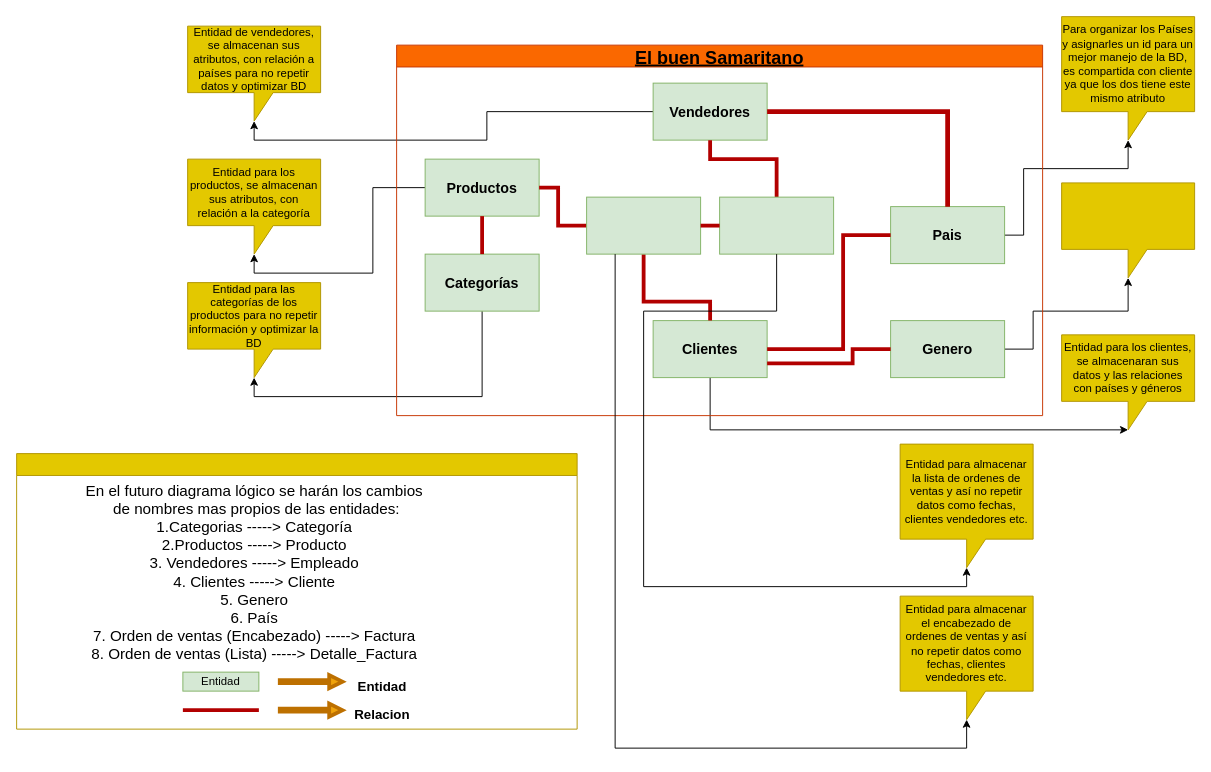
This 1211x772 diagram has some shape labels left out. Each missing label, with the box of its shape:
NOTA: (16, 453, 577, 729)
Ordenes de Ventas (Encabezado): (586, 196, 701, 254)
Ordenes de Ventas (Lista): (719, 196, 834, 254)
Para organizar los géneros y asignarles un id para un mejor manejo de la BD: (1061, 182, 1195, 278)
